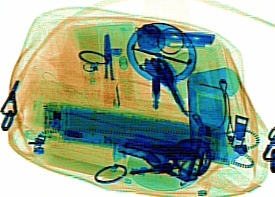scissors: (100, 30, 119, 110)
